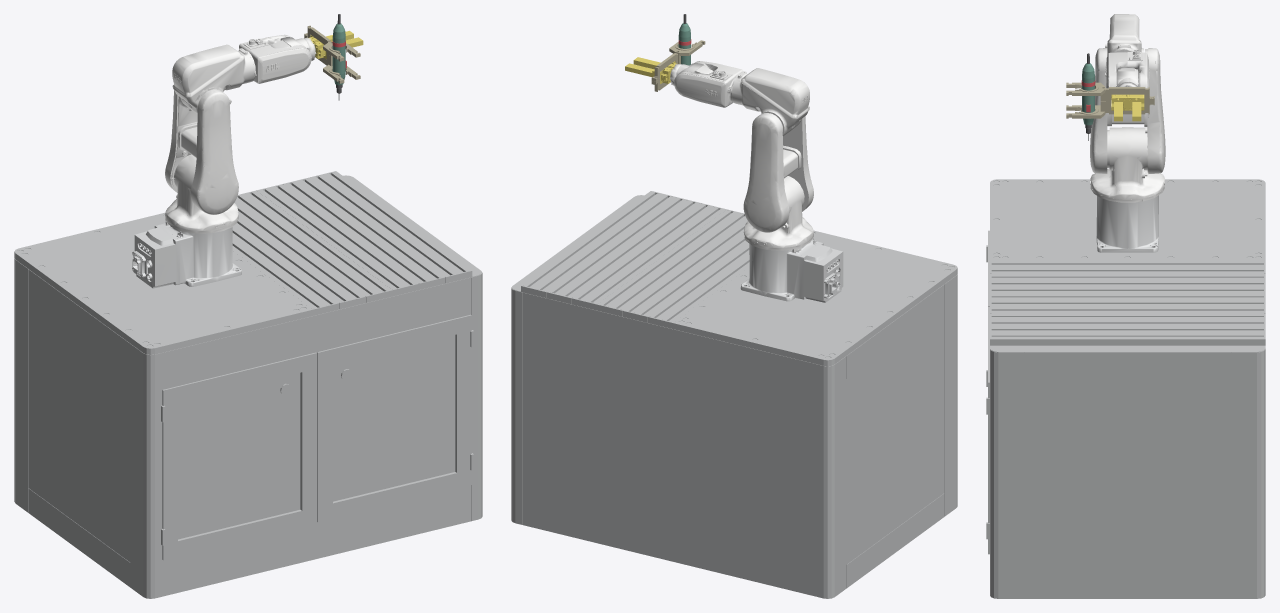
The model's file is irb120_glodanje.glb.
3 renders of one model, left to right at view 1: azimuth 30°, elevation 25°; view 2: azimuth 150°, elevation 25°; view 3: azimuth 270°, elevation 25°, orthographic. The views are drawn at different scales.
Visible parts, largest first — view 1: l_stol, l_clanak2, l_baza, l_clanak3, l_clanak1, l_clanak4, l_drzac; view 2: l_stol, l_clanak2, l_baza, l_clanak3, l_clanak1, l_clanak4, l_drzac, l_schunk; view 3: l_stol, l_clanak1, l_clanak2, l_baza, l_drzac, l_clanak3, l_clanak4, l_schunk, l_parkside, l_clanak5.
Part boxes in pixels (<box>): l_stol: <box>14,171,482,598</box>; l_clanak2: <box>165,89,238,214</box>; l_baza: <box>132,221,241,288</box>; l_clanak3: <box>172,44,256,113</box>; l_clanak1: <box>165,154,238,233</box>; l_clanak4: <box>239,34,311,83</box>; l_drzac: <box>304,25,360,83</box>; l_stol: <box>511,191,957,598</box>; l_clanak2: <box>743,113,813,232</box>; l_baza: <box>740,237,843,302</box>; l_clanak3: <box>730,68,809,136</box>; l_clanak1: <box>743,176,813,252</box>; l_clanak4: <box>674,61,743,107</box>; l_drzac: <box>651,40,705,91</box>; l_schunk: <box>625,57,676,83</box>; l_stol: <box>986,179,1265,598</box>; l_clanak1: <box>1090,127,1164,202</box>; l_clanak2: <box>1090,48,1165,173</box>; l_baza: <box>1096,195,1158,252</box>; l_drzac: <box>1066,82,1154,118</box>; l_clanak3: <box>1105,14,1143,75</box>; l_clanak4: <box>1105,49,1149,99</box>; l_schunk: <box>1111,94,1144,121</box>; l_parkside: <box>1082,63,1094,125</box>; l_clanak5: <box>1116,68,1138,86</box>.
Size of the model in its own units: 1.14 by 1.59 by 0.81.
